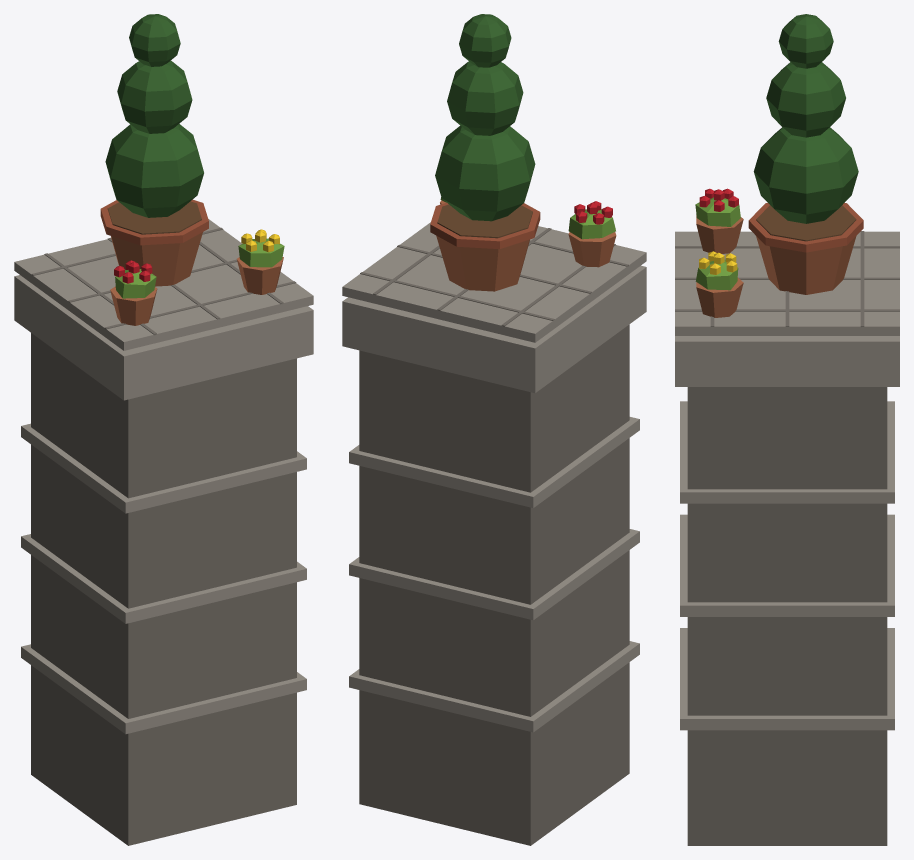
Rendered from decor_topiary_pot.glb.
The picture shows the model from 3 angles, left to right: view 1: azimuth 30°, elevation 25°; view 2: azimuth 150°, elevation 25°; view 3: azimuth 270°, elevation 25°; orthographic projection. The views are drawn at different scales.
Parts seen in each view (by area): view 1: decor_topiary_pot; view 2: decor_topiary_pot; view 3: decor_topiary_pot.
Boxes of the visible parts, x1,y1,x2,y2 form: decor_topiary_pot: [14, 14, 313, 845]; decor_topiary_pot: [342, 14, 646, 845]; decor_topiary_pot: [675, 14, 899, 845].
Bounding box in the file's own units: 1.8 × 6.95 × 1.8.
